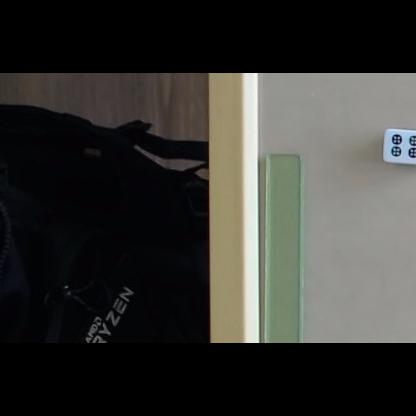4p: (390, 133, 416, 158)
